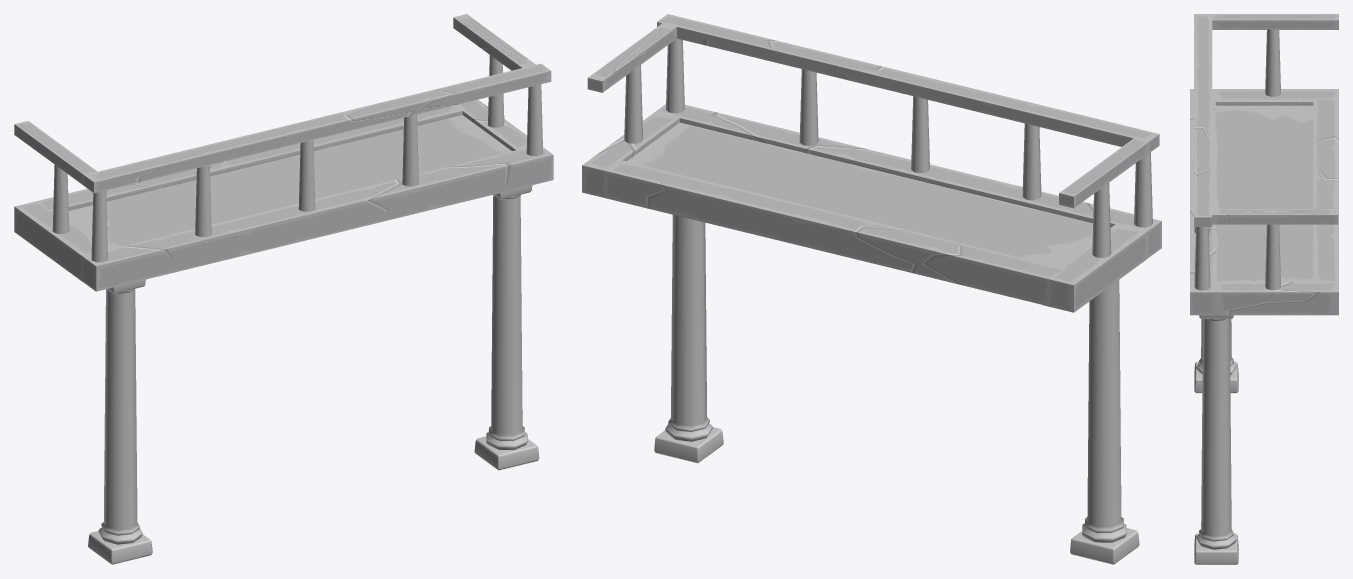
File: Balcony1.fbx
3 views of the same model, side by side, from view 1: azimuth 30°, elevation 25°; view 2: azimuth 150°, elevation 25°; view 3: azimuth 270°, elevation 25° (orthographic). The views are drawn at different scales.
Visible parts, largest first — view 1: Balcony1; view 2: Balcony1; view 3: Balcony1.
Part boxes in pixels (left/top/right/bottom): Balcony1: left=14, top=14, right=553, bottom=564; Balcony1: left=582, top=14, right=1161, bottom=564; Balcony1: left=1190, top=14, right=1338, bottom=564.
Size of the model in its own units: 900 by 730 by 279.
